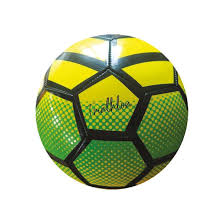top: (33, 29, 191, 192)
